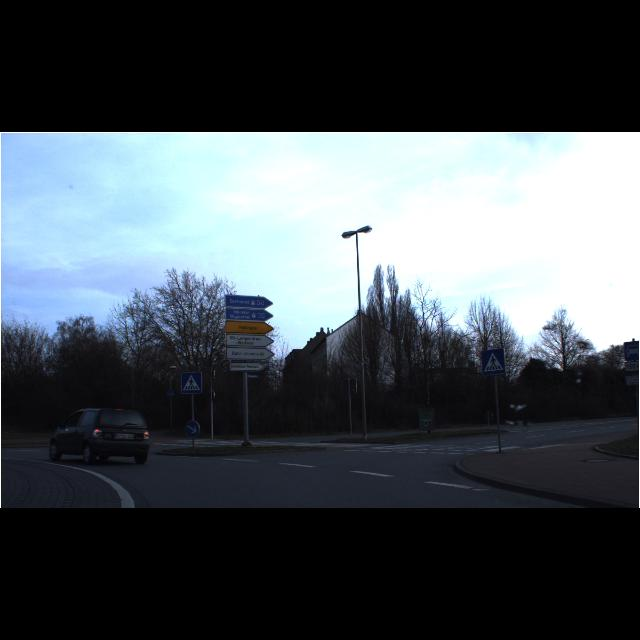mandatory: (184, 420, 200, 438)
